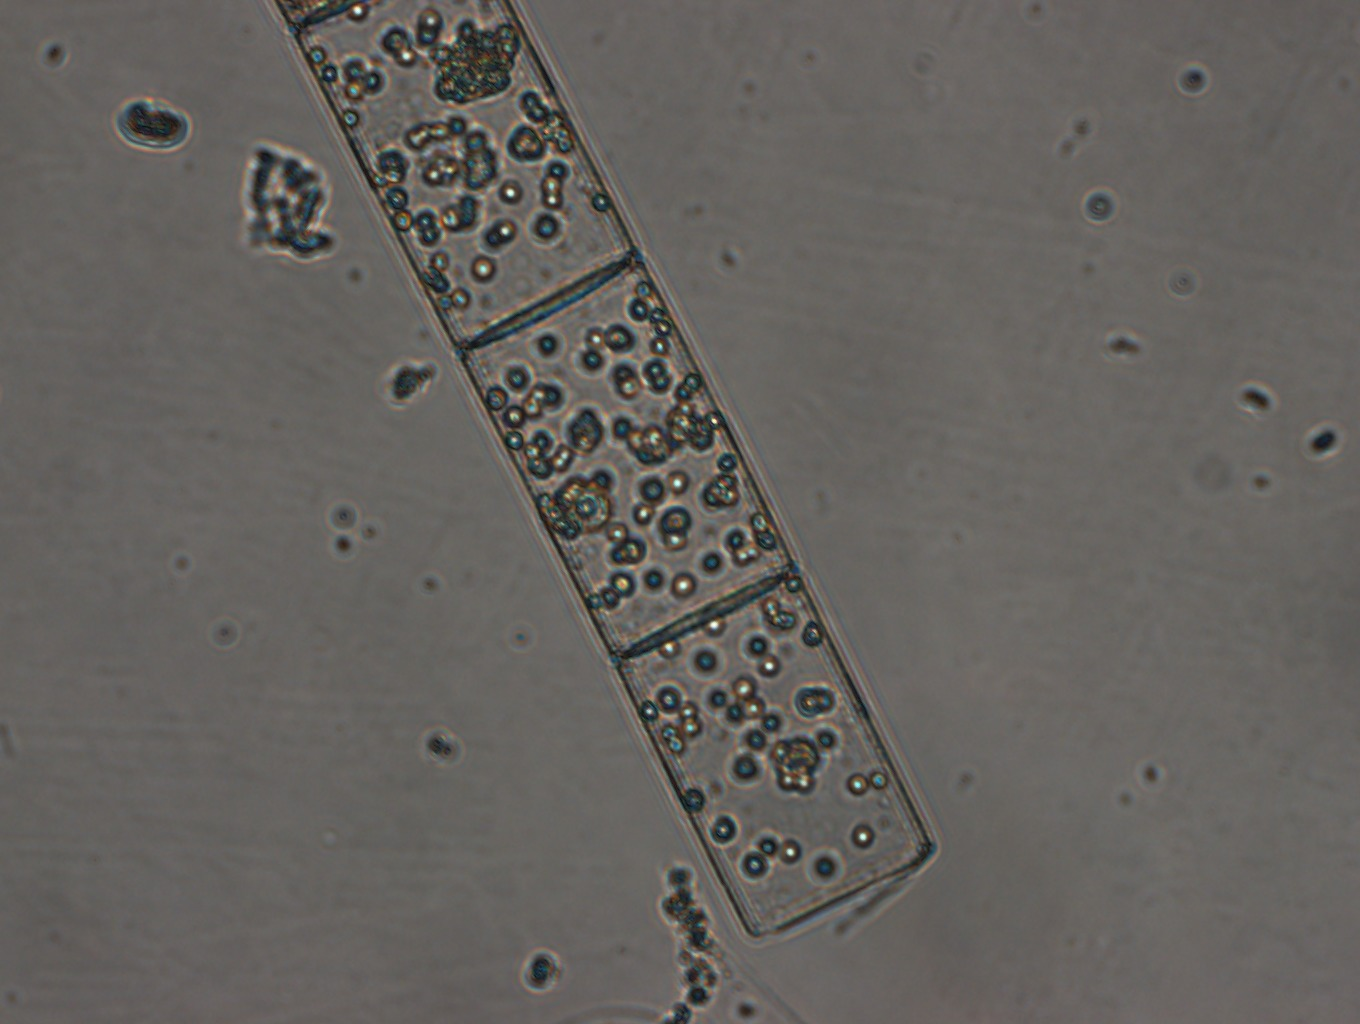guinardia flaccida: (272, 1, 937, 936)
